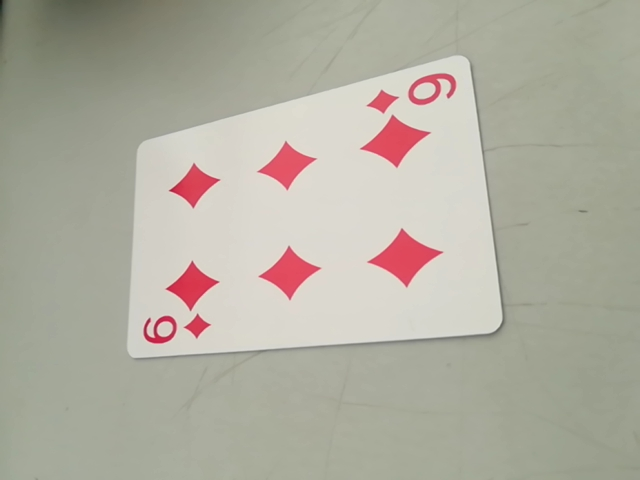fk 6: (136, 305, 216, 358), (367, 70, 461, 115)
